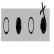correct: (15, 14, 22, 38)
no answer: (3, 14, 10, 38), (28, 14, 34, 36)
not correct: (39, 2, 47, 36)
